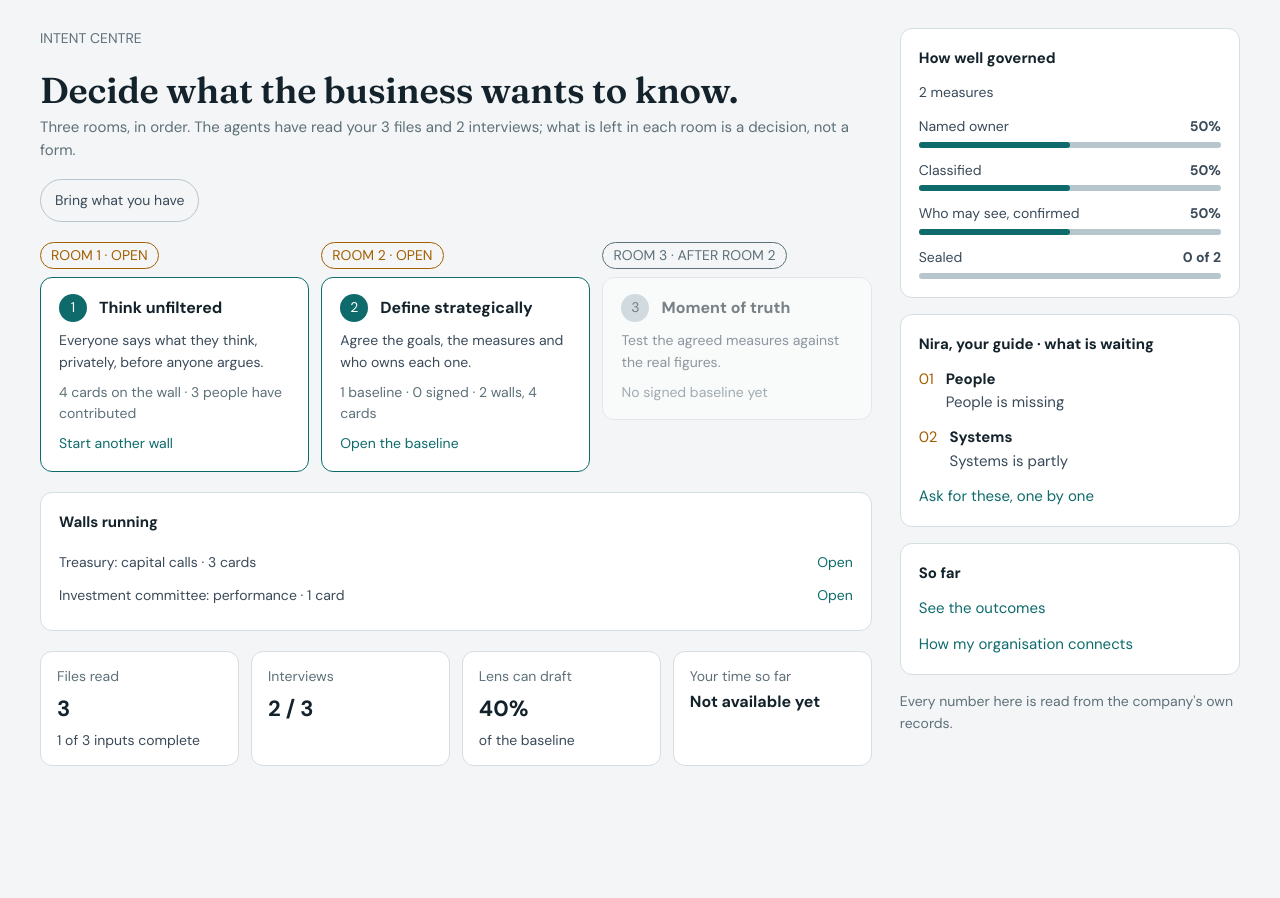
Test case: Intent Centre home › walls list: each running wall by topic with its cards and an Open; a second wall needs a topic
Expected: the text "Treasury: capital calls · 3 cards" is shown, [59,552,256,573]
Expected: the text "Investment committee: performance · 1 card" is shown, [59,585,344,606]
Click the link "Start another wall".
click(116, 444)  # box [59,433,173,455]
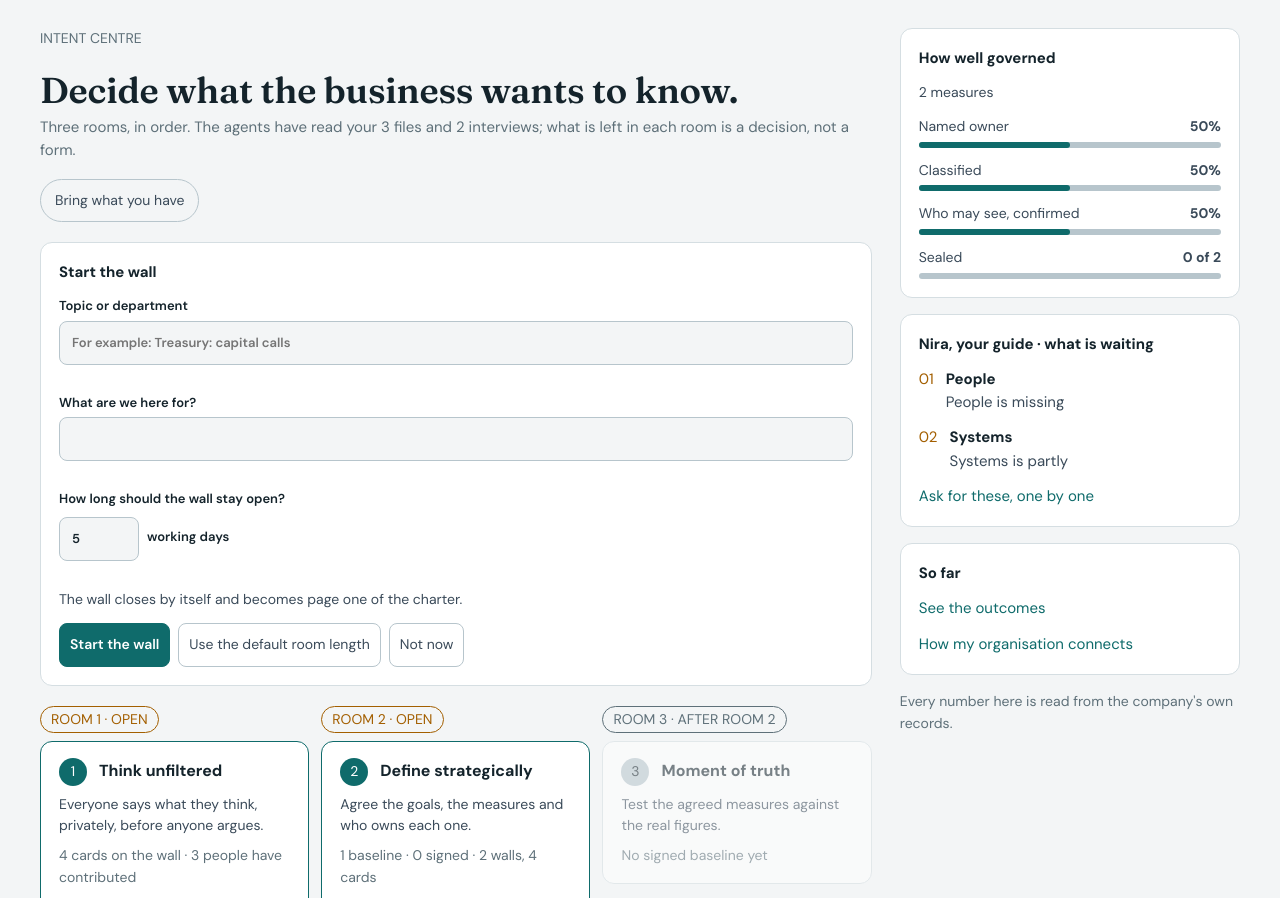
Click the button "Start the wall".
click(115, 644)  # box [59,622,170,666]
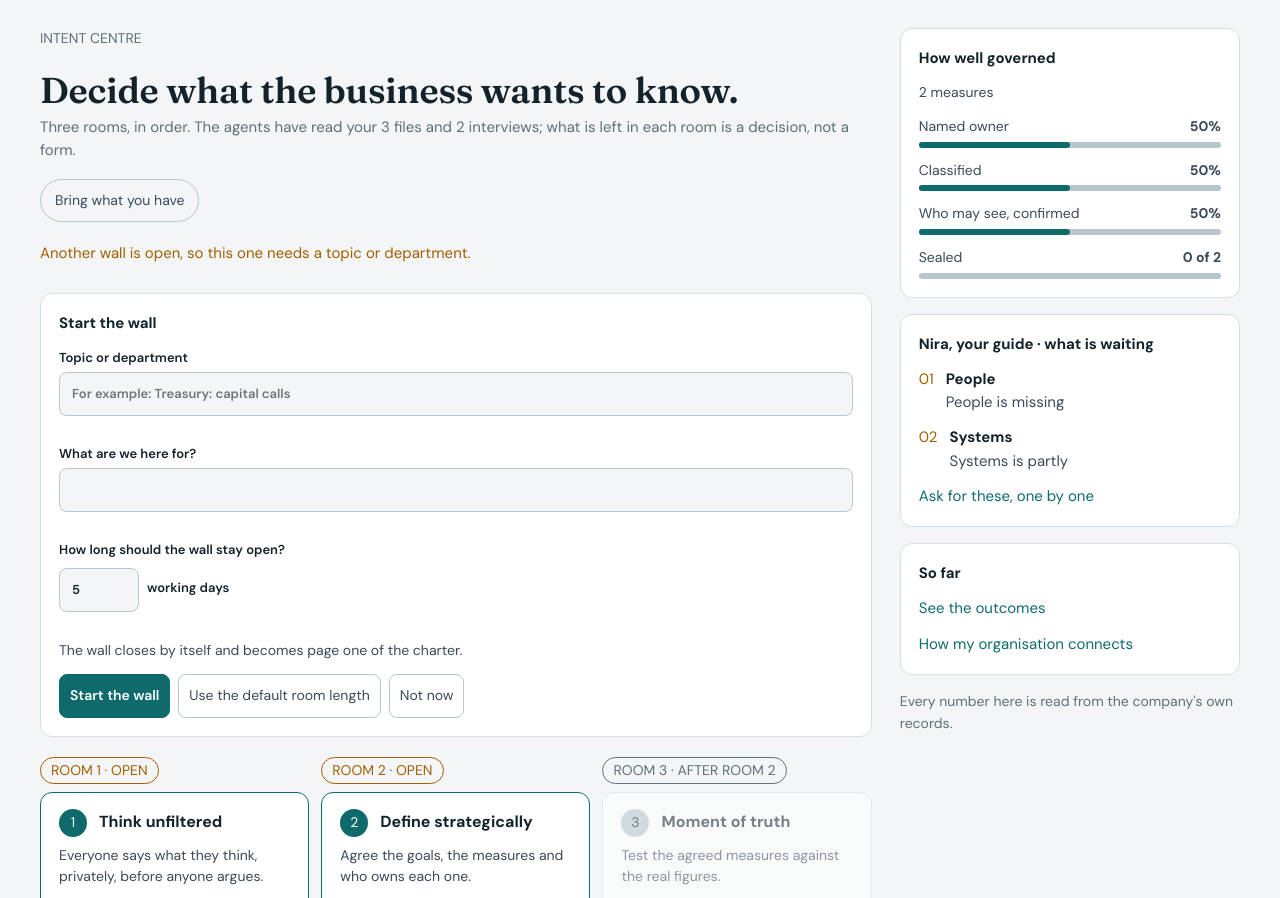
Expected: the message shows "needs a topic or department", [40,243,471,263]
